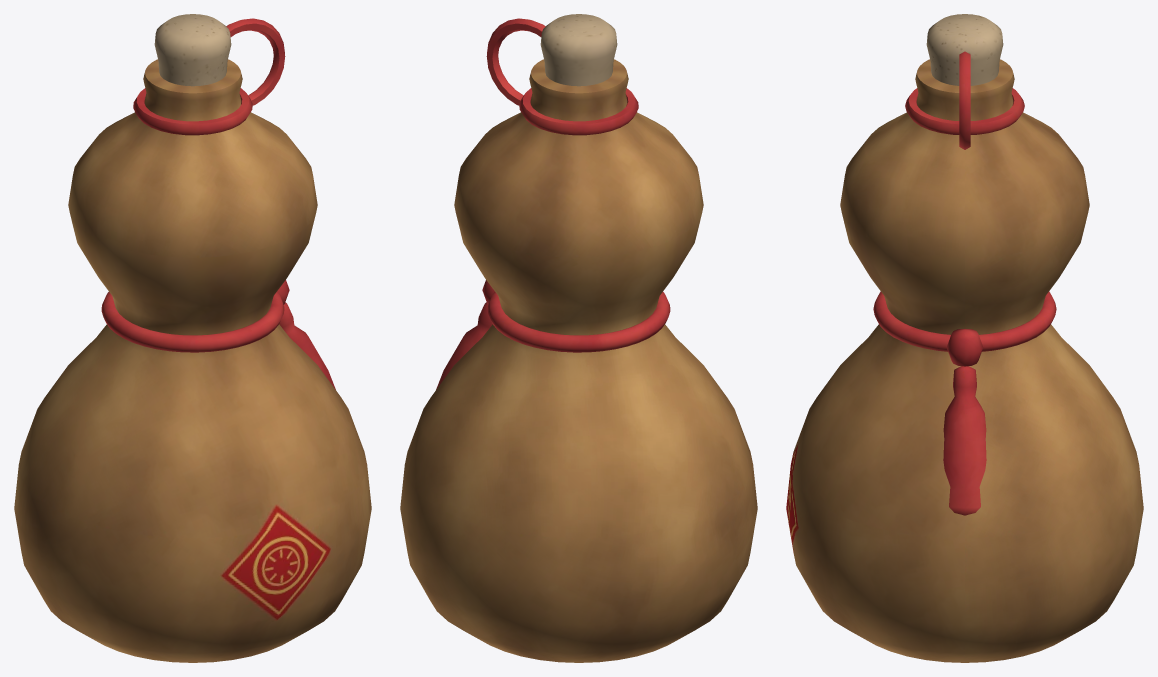
Rendered from gourd.glb.
3 renders of one model, left to right at view 1: azimuth 30°, elevation 25°; view 2: azimuth 150°, elevation 25°; view 3: azimuth 270°, elevation 25°, orthographic.
Parts seen in each view (by area): view 1: gourd; view 2: gourd; view 3: gourd.
Part boxes in pixels (box(x1,y1,x2,y2)): gourd: box(14, 14, 371, 662); gourd: box(400, 14, 757, 662); gourd: box(786, 14, 1143, 662).
Size of the model in its own units: 0.1324 by 0.2472 by 0.1324.
Materials: 1 (1 with a texture image).
